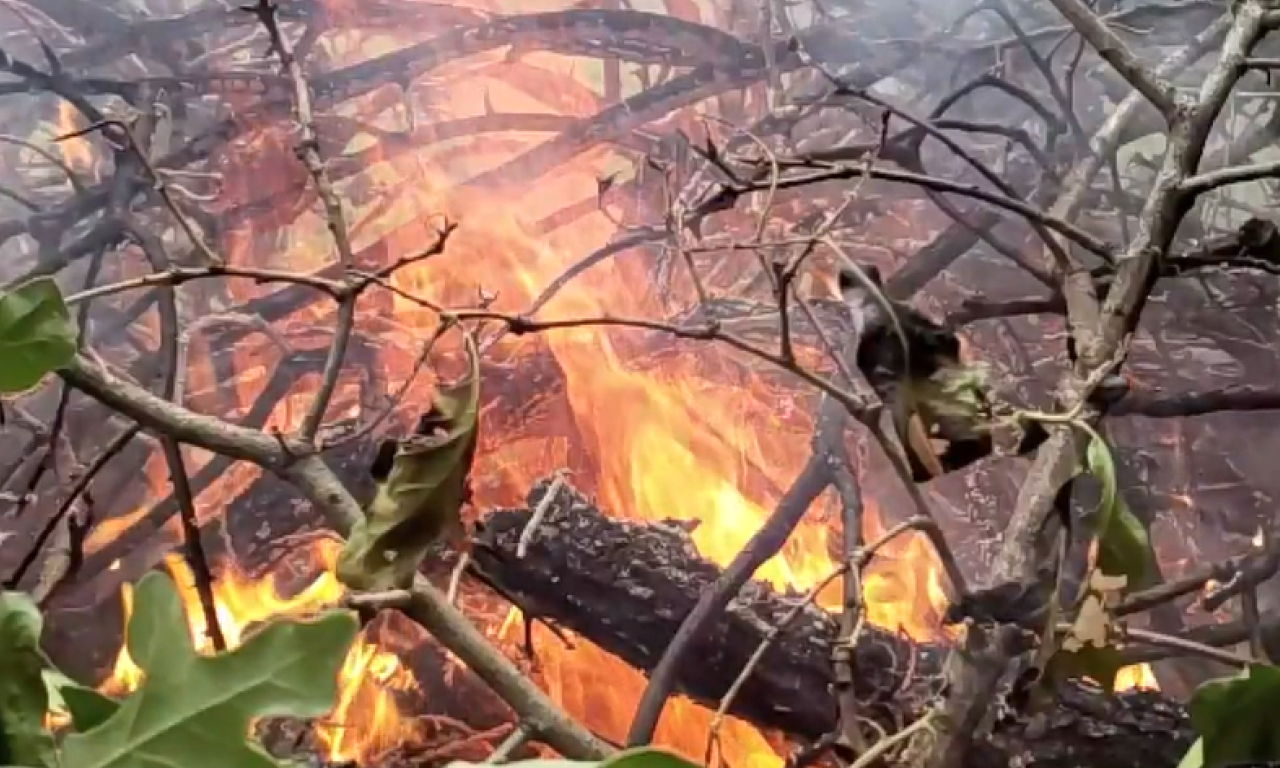fire: (188, 18, 944, 756)
